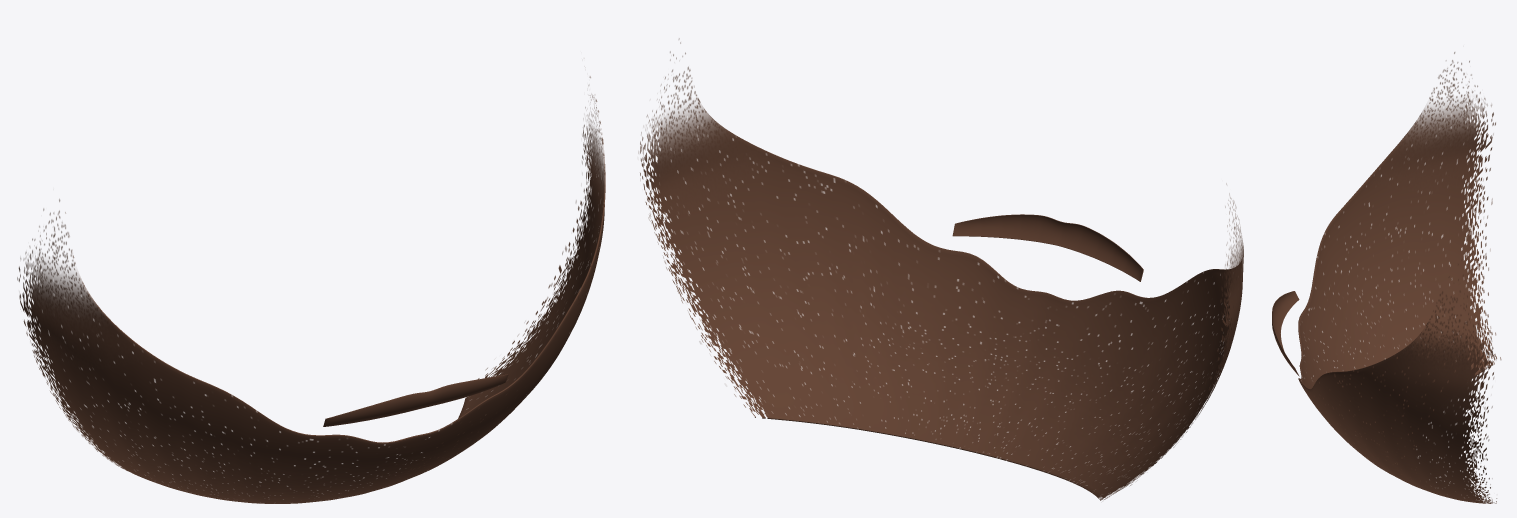
File: Masculine-Masculine-groom-short-b9b78a24.glb
The picture shows the model from 3 angles, left to right: view 1: azimuth 30°, elevation 25°; view 2: azimuth 150°, elevation 25°; view 3: azimuth 270°, elevation 25°; orthographic projection. The views are drawn at different scales.
Visible parts, largest first — view 1: Groom / short body184, Groom / shared mustache208; view 2: Groom / short body184, Groom / shared mustache208; view 3: Groom / short body184, Groom / shared mustache208.
Boxes of the visible parts, x1=… form: Groom / short body184: x1=17, y1=76, x2=605, y2=503; Groom / shared mustache208: x1=323, y1=374, x2=508, y2=426; Groom / short body184: x1=638, y1=38, x2=1243, y2=500; Groom / shared mustache208: x1=952, y1=214, x2=1143, y2=281; Groom / short body184: x1=1298, y1=52, x2=1501, y2=503; Groom / shared mustache208: x1=1272, y1=291, x2=1299, y2=376.
Bounding box in the file's own units: 0.7634 × 0.5031 × 0.3129.
2 materials, 1 textured.
